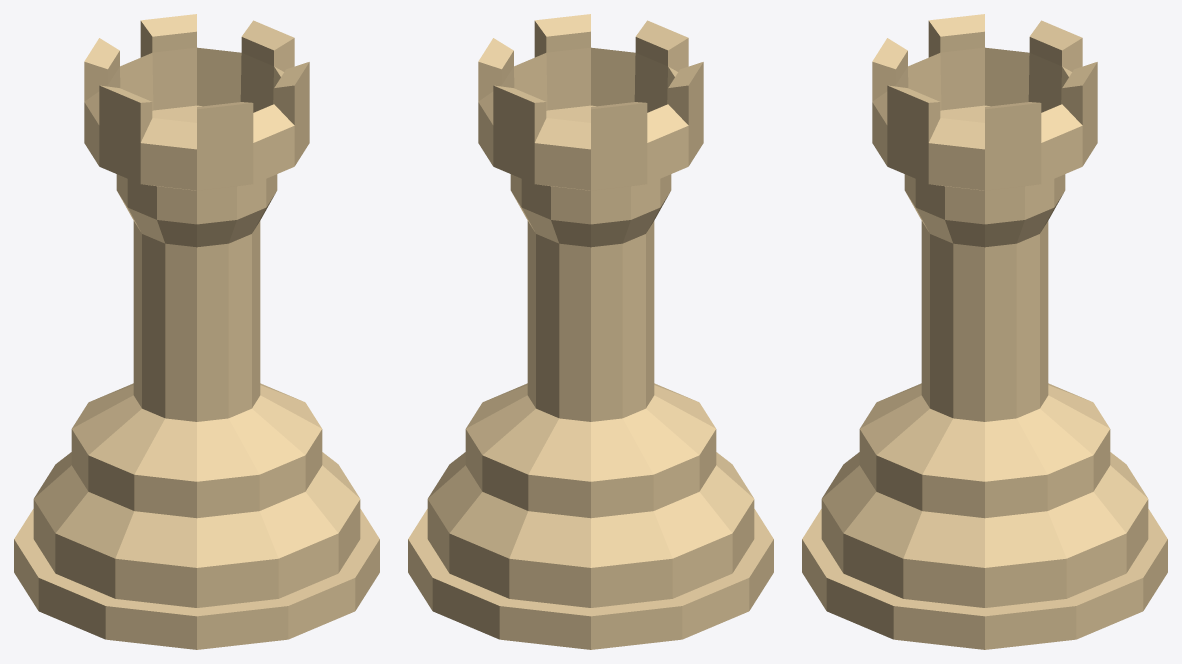
File: lowpoly_r_w.glb
3 renders of one model, left to right at view 1: azimuth 30°, elevation 25°; view 2: azimuth 150°, elevation 25°; view 3: azimuth 270°, elevation 25°, orthographic.
Parts seen in each view (by area): view 1: Rook.001; view 2: Rook.001; view 3: Rook.001.
Boxes of the visible parts, x1=… form: Rook.001: x1=14, y1=14, x2=379, y2=649; Rook.001: x1=408, y1=14, x2=773, y2=649; Rook.001: x1=802, y1=14, x2=1167, y2=649.
Size of the model in its own units: 0.0821 by 0.1266 by 0.0821.
